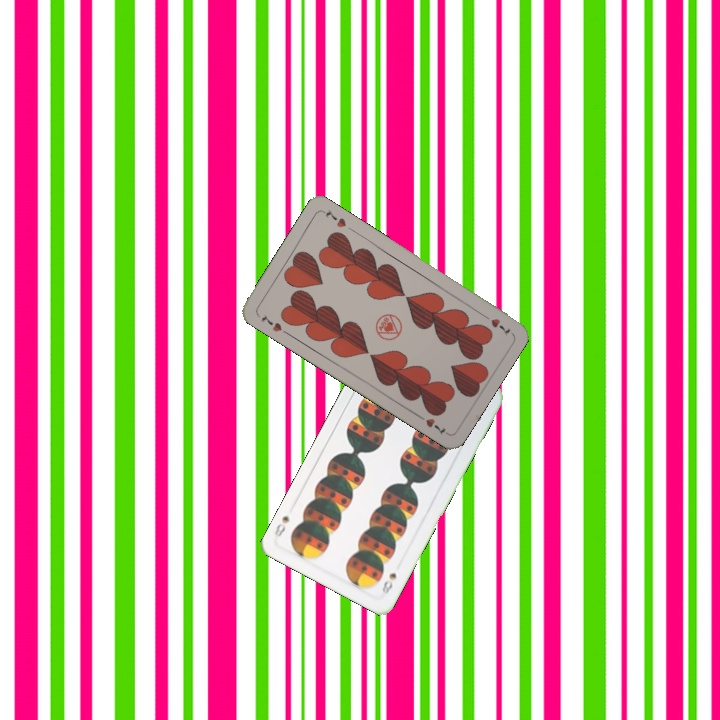H7: (478, 309, 513, 338), (257, 310, 291, 337)
S8: (378, 568, 399, 598)
